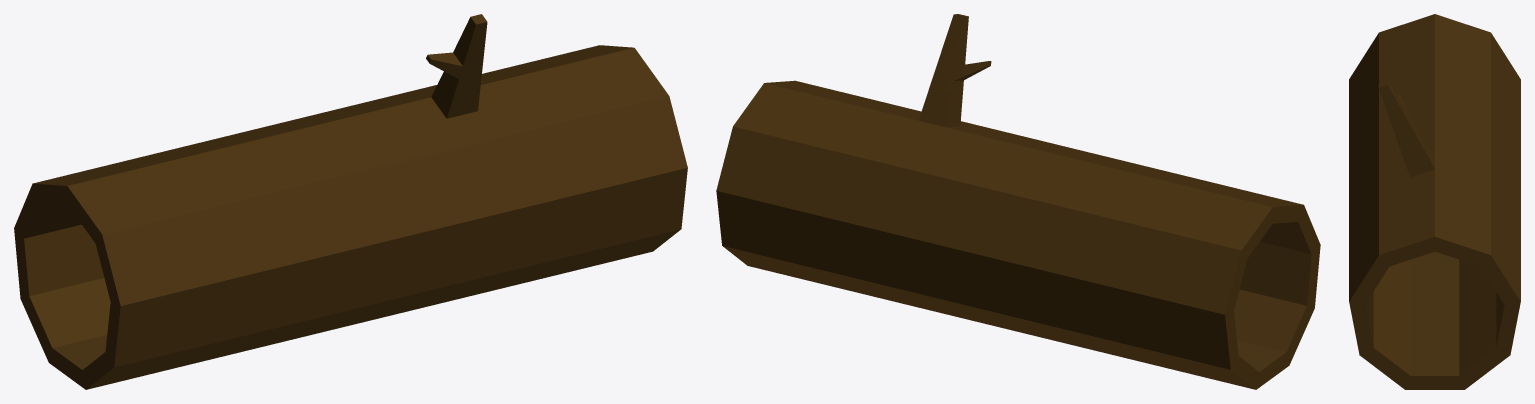
Rendered from ENV_log.fbx.
3 views of the same model, side by side, from view 1: azimuth 30°, elevation 25°; view 2: azimuth 150°, elevation 25°; view 3: azimuth 270°, elevation 25° (orthographic). The views are drawn at different scales.
Parts seen in each view (by area): view 1: ENV_log; view 2: ENV_log; view 3: ENV_log.
Part boxes in pixels (x1,y1,x2,y2): ENV_log: [14, 14, 687, 389]; ENV_log: [716, 14, 1320, 389]; ENV_log: [1349, 14, 1520, 389].
Bounding box in the file's own units: 0.8721 × 0.4259 × 0.284.
